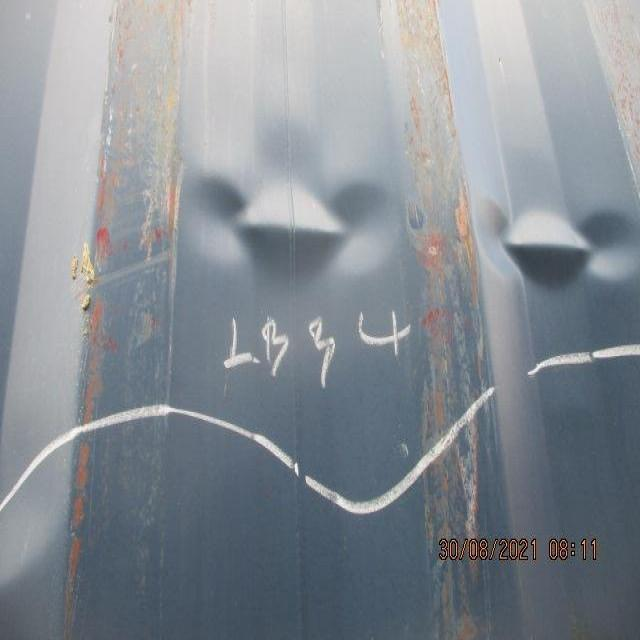Dent: (71, 68, 640, 436)
